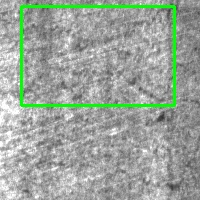crazing: (21, 6, 174, 105)
